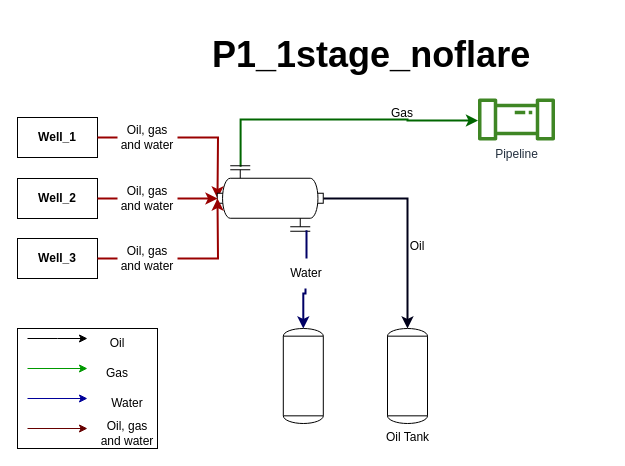
Image size: 625x466. Some labels were removed from this diagram. The shapes that lost their labels are listed below. From the top down, each one's centre as x and y in pixels, then its label:
[269,198]: Stage 1 100 psig
[302,376]: Water tank
